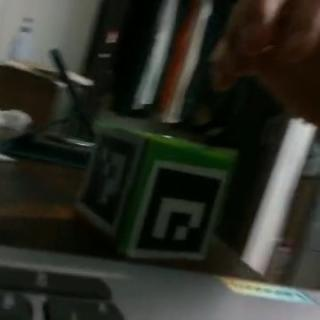armor: (130, 161, 228, 259), (78, 125, 148, 233)
robot: (76, 122, 236, 263)
